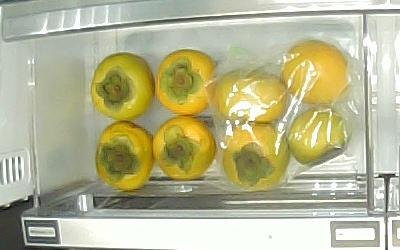persimmon: (89, 52, 155, 122), (151, 114, 218, 181), (94, 122, 153, 191), (155, 49, 216, 115)
persimmon_vinyl: (281, 38, 350, 106), (222, 123, 289, 190), (215, 70, 286, 123), (287, 110, 349, 166)
